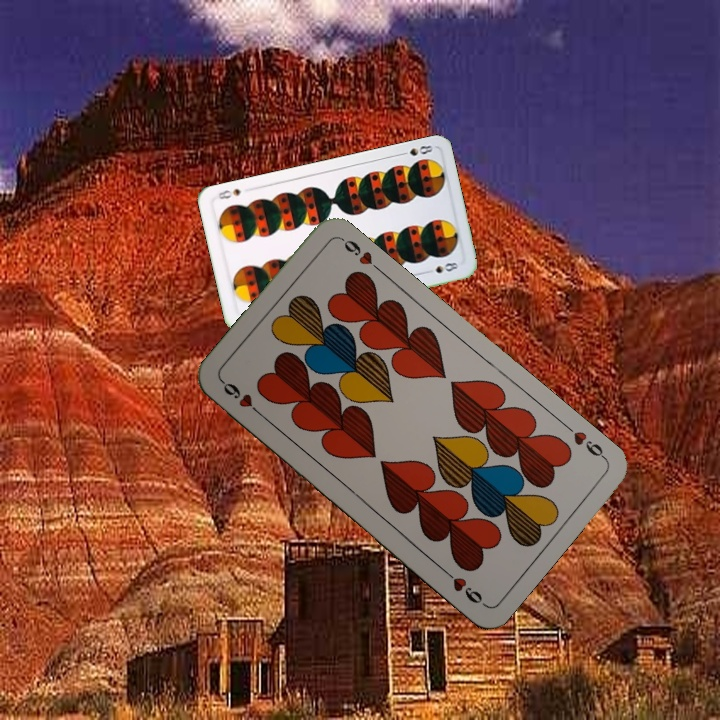H9: (218, 376, 266, 420), (560, 419, 609, 462)
S8: (395, 141, 436, 158)
